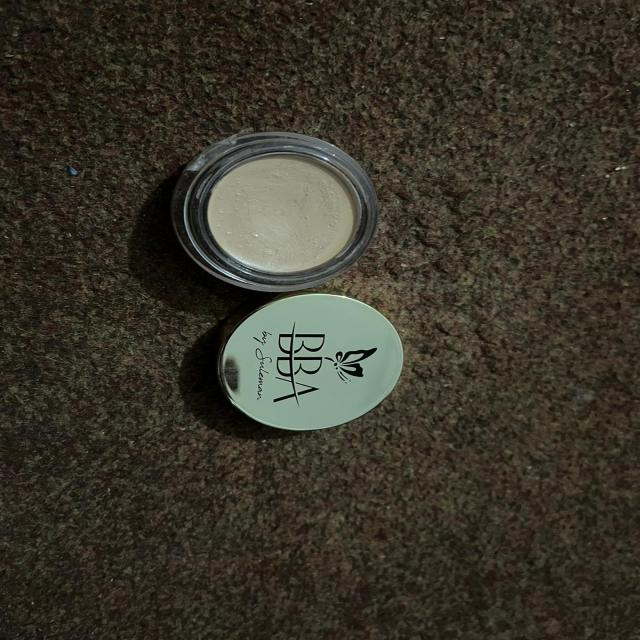highlighter: (226, 288, 413, 446), (187, 126, 371, 282)
